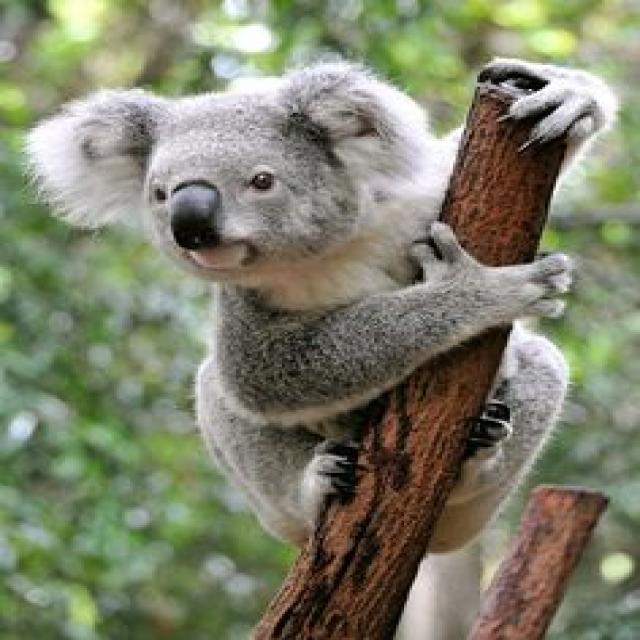Herbivorous: (27, 63, 569, 560)
